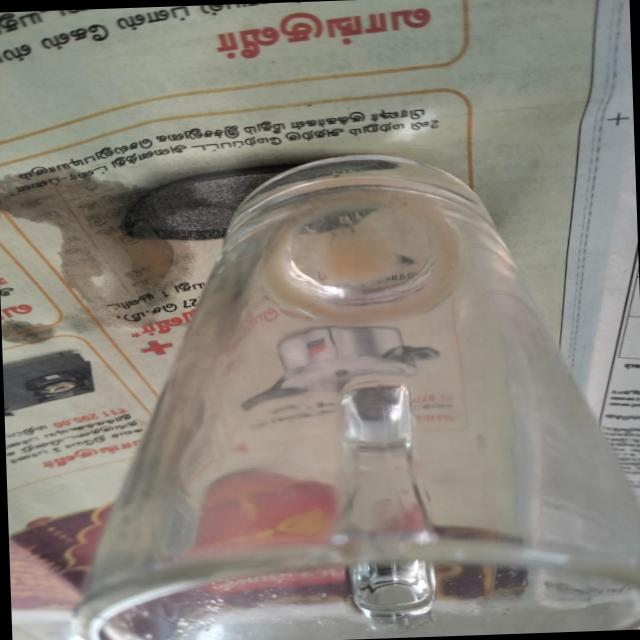glass-VX4N: (48, 143, 640, 640)
